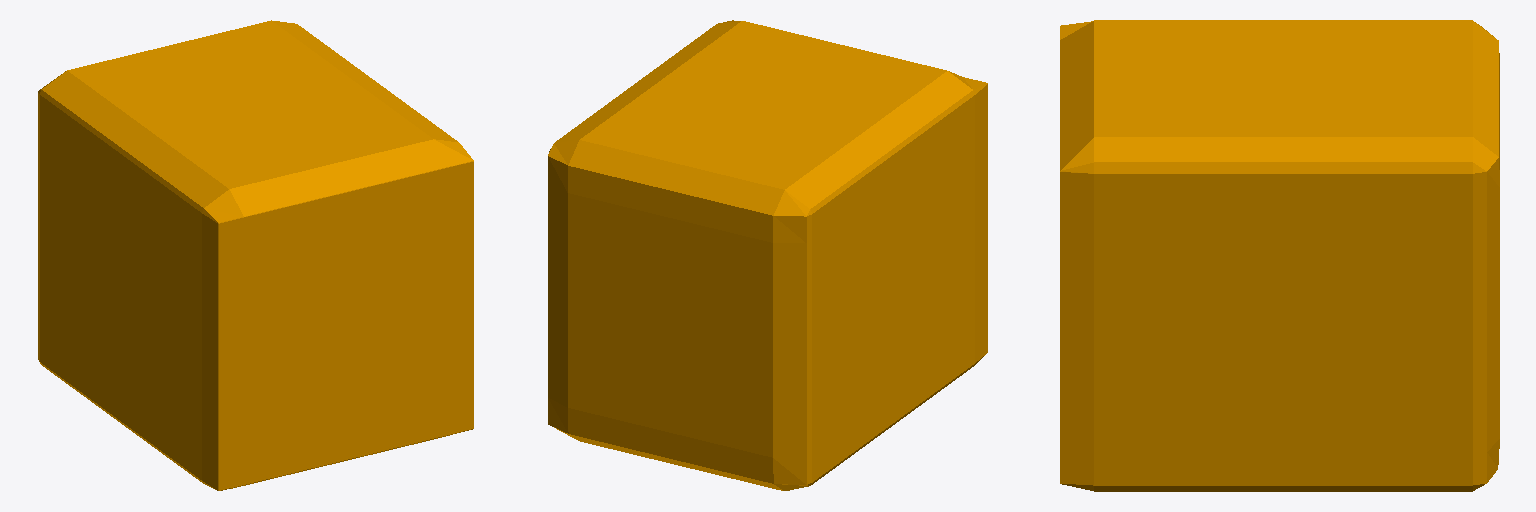
URDF robot description (cylinder_box_93):
<?xml version="1.0" encoding="utf-8"?>  <robot name="cylinder_box_93">   <link name="cylinder_box_93">     <visual>       <geometry>         <mesh filename="../meshes/box/box_93.stl" scale="1 1 1"/>       </geometry>     </visual>     <collision>       <geometry>         <mesh filename="../meshes/box/box_93.stl" scale="1 1 1"/>       </geometry>     </collision>     <inertial>        <origin         xyz="0 0 0"         rpy="0 0 0" />       <mass value="0.1798122425741011"/>       <origin rpy="0 0 0" xyz="0 0 0"/>       <inertia ixx="0.0001059409616348924" ixy="-6.595855782780871e-08" ixz="-3.0632367984072994e-09" iyy="8.416178477489063e-05" iyz="-2.296455855939777e-08" izz="9.832742071335808e-05"/>     </inertial>   </link>  </robot>

--- Render facts (derived) ---
The picture shows the robot from 3 angles, left to right: view 1: azimuth 30°, elevation 25°; view 2: azimuth 150°, elevation 25°; view 3: azimuth 270°, elevation 25°; orthographic projection.
Robot: cylinder_box_93 — 1 links, 0 joints (none); root link cylinder_box_93; default pose: every joint at zero.
Visible links, largest first — view 1: cylinder_box_93; view 2: cylinder_box_93; view 3: cylinder_box_93.
Boxes of the visible links, x1,y1,x2,y2 form: cylinder_box_93: (38, 20, 473, 490); cylinder_box_93: (548, 20, 987, 490); cylinder_box_93: (1060, 20, 1499, 491).
Bounding box of the posed robot: 0.0511 × 0.064 × 0.0562 m (x, y, z).
1 mesh visuals loaded from 1 distinct referenced files (1 binary STL).